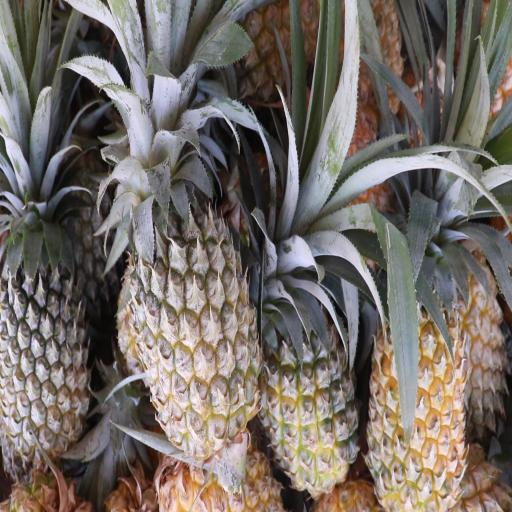------------------------------: (123, 160, 264, 501), (258, 273, 362, 499)
Pineapple - v8 v1: (364, 250, 470, 512)
